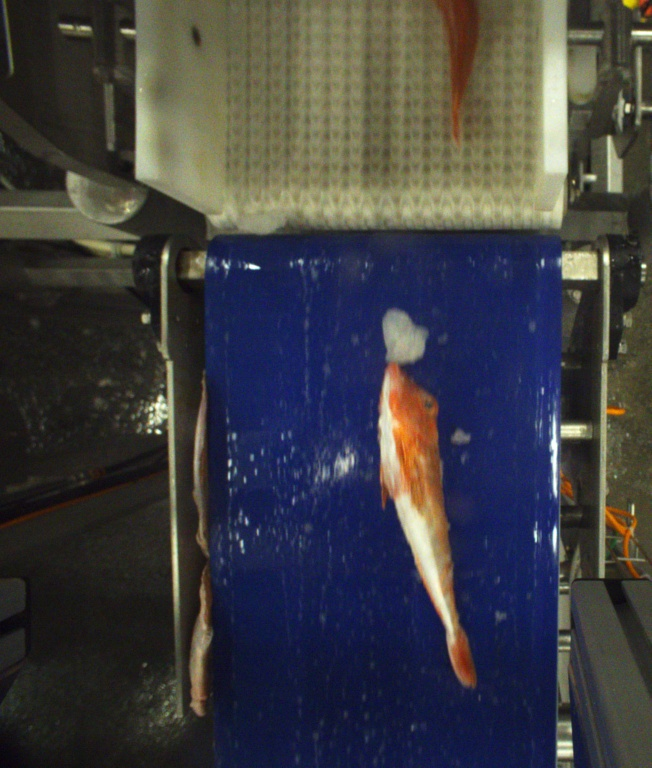GUU: (436, 0, 480, 149)
